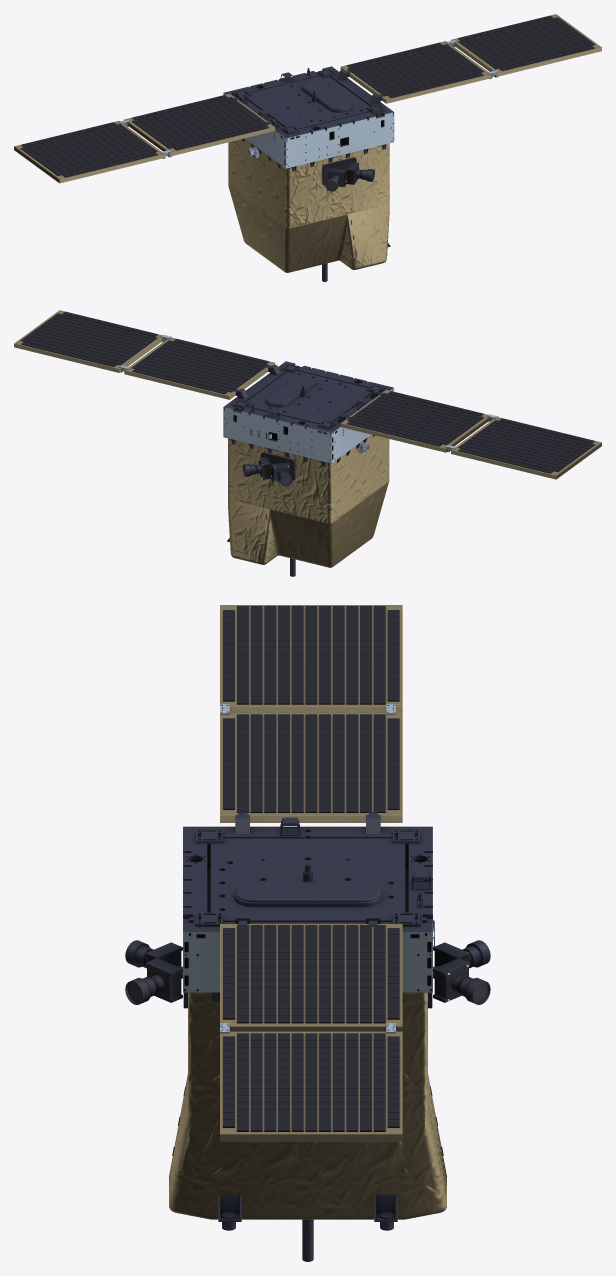
File: satellite.glb
The picture shows the model from 3 angles, top to bottom: view 1: azimuth 30°, elevation 25°; view 2: azimuth 150°, elevation 25°; view 3: azimuth 270°, elevation 25°; orthographic projection. The views are drawn at different scales.
Visible parts, largest first — view 1: Cube.005, Cube.020, Cube.003, Cube.002, Cube, Cube.001, Cube.018, Cube.006, Cube.022, Cube.027, Cube.026, Cube.007 (+2 smaller); view 2: Cube.005, Cube.020, Cube.002, Cube.003, Cube, Cube.001, Cube.018, Cube.006, Cube.007, Cube.026, Cube.022, Cube.027 (+2 smaller); view 3: Cube.005, Cube.002, Cube.003, Cube.020, Cube, Cube.001, Cube.018, Cube.006, Cube.007, Cube.026, Cube.022, Cube.027 (+3 smaller).
Boxes of the visible parts, x1,y1,x2,y2 form: Cube.005: (228, 139, 389, 272); Cube.020: (223, 66, 394, 168); Cube.003: (132, 44, 483, 148); Cube.002: (20, 17, 594, 175); Cube: (14, 14, 601, 183); Cube.001: (124, 41, 491, 156); Cube.018: (325, 162, 374, 191); Cube.006: (301, 81, 351, 112); Cube.022: (62, 45, 594, 177); Cube.027: (173, 73, 483, 150); Cube.026: (132, 42, 441, 119); Cube.007: (21, 15, 553, 147); Cube.005: (228, 434, 389, 567); Cube.020: (223, 361, 394, 463); Cube.002: (20, 313, 594, 471); Cube.003: (132, 340, 483, 444); Cube: (14, 310, 601, 479); Cube.001: (124, 337, 489, 452); Cube.018: (243, 457, 292, 486); Cube.006: (265, 376, 315, 407); Cube.007: (21, 342, 553, 473); Cube.026: (132, 369, 442, 446); Cube.022: (63, 311, 594, 443); Cube.027: (174, 338, 483, 416); Cube.005: (169, 992, 446, 1219); Cube.002: (237, 606, 385, 1131); Cube.003: (237, 714, 385, 1023); Cube.020: (183, 826, 432, 992); Cube: (220, 605, 402, 1141); Cube.001: (220, 712, 402, 1031); Cube.018: (125, 940, 490, 1004); Cube.006: (234, 881, 381, 906); Cube.007: (387, 610, 399, 1127); Cube.026: (387, 718, 399, 1019); Cube.022: (223, 610, 234, 1127); Cube.027: (223, 718, 234, 1019).
Bounding box in the file's own units: 0.9614 × 0.326 × 0.2806.
1 material, 1 textured.
